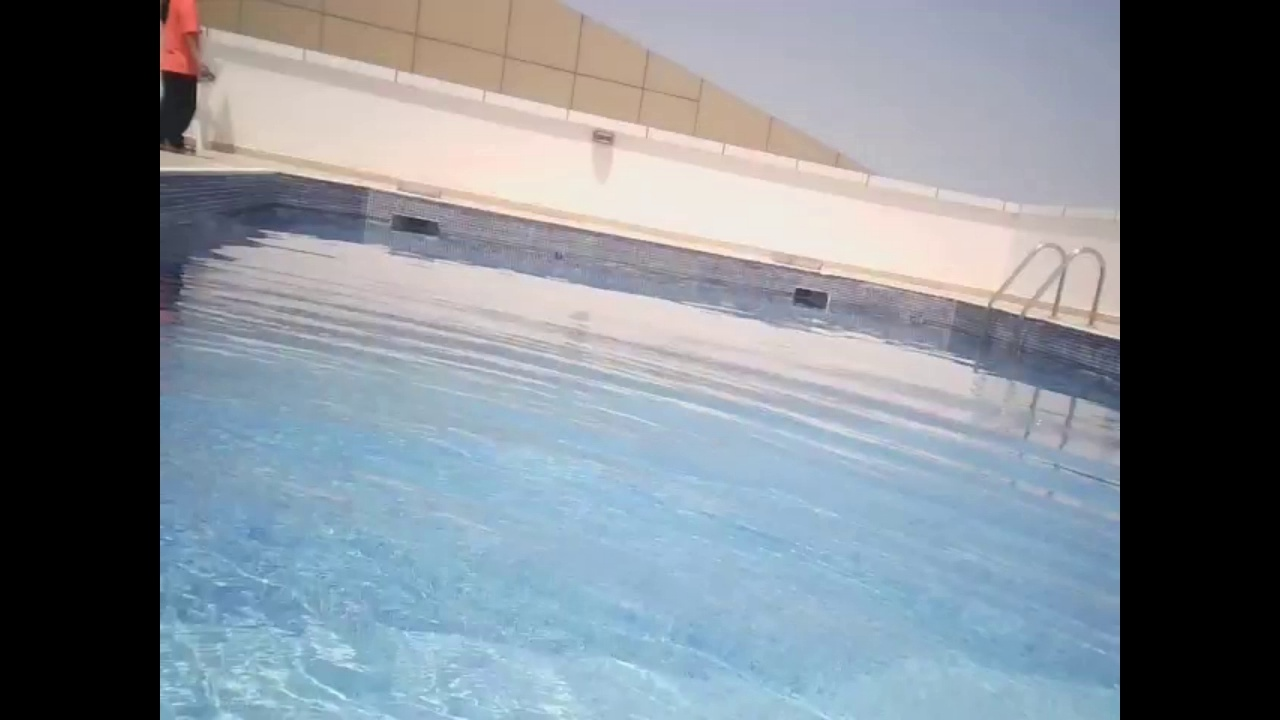debris: (551, 248, 565, 262)
